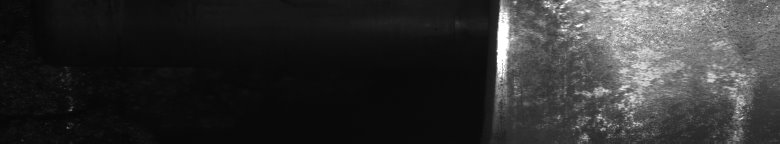kb: (508, 4, 750, 136)
